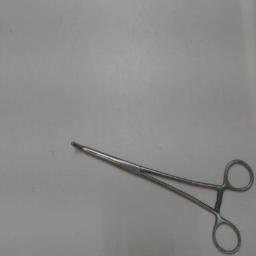Lahey Forceps: (67, 134, 255, 254)
